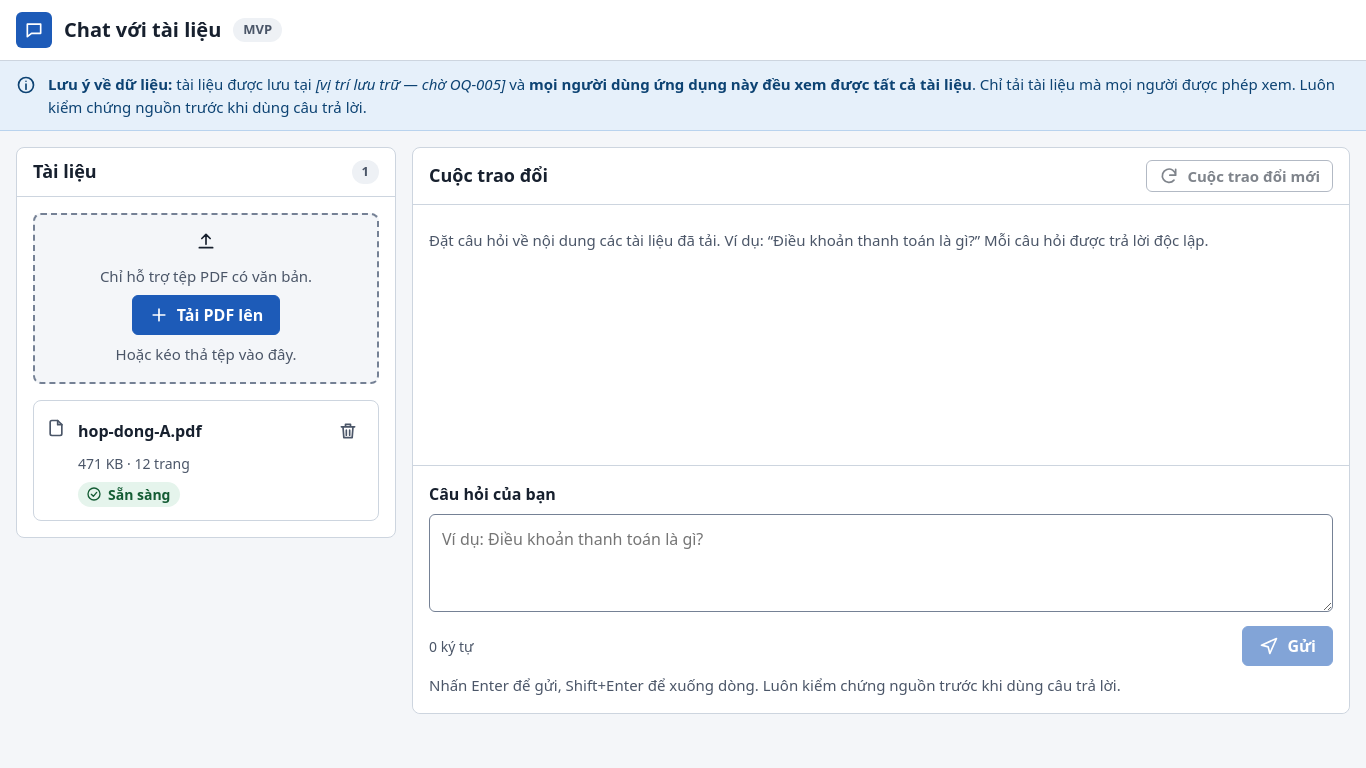
Scenario: [US-005-AC1] hộp thoại xóa: focus vào Hủy, Esc đóng, xác nhận gọi DELETE
Click the button named "Xóa tài liệu hop-dong-A.pdf" at coordinates (348, 430), box left=330, top=412, right=366, bottom=448
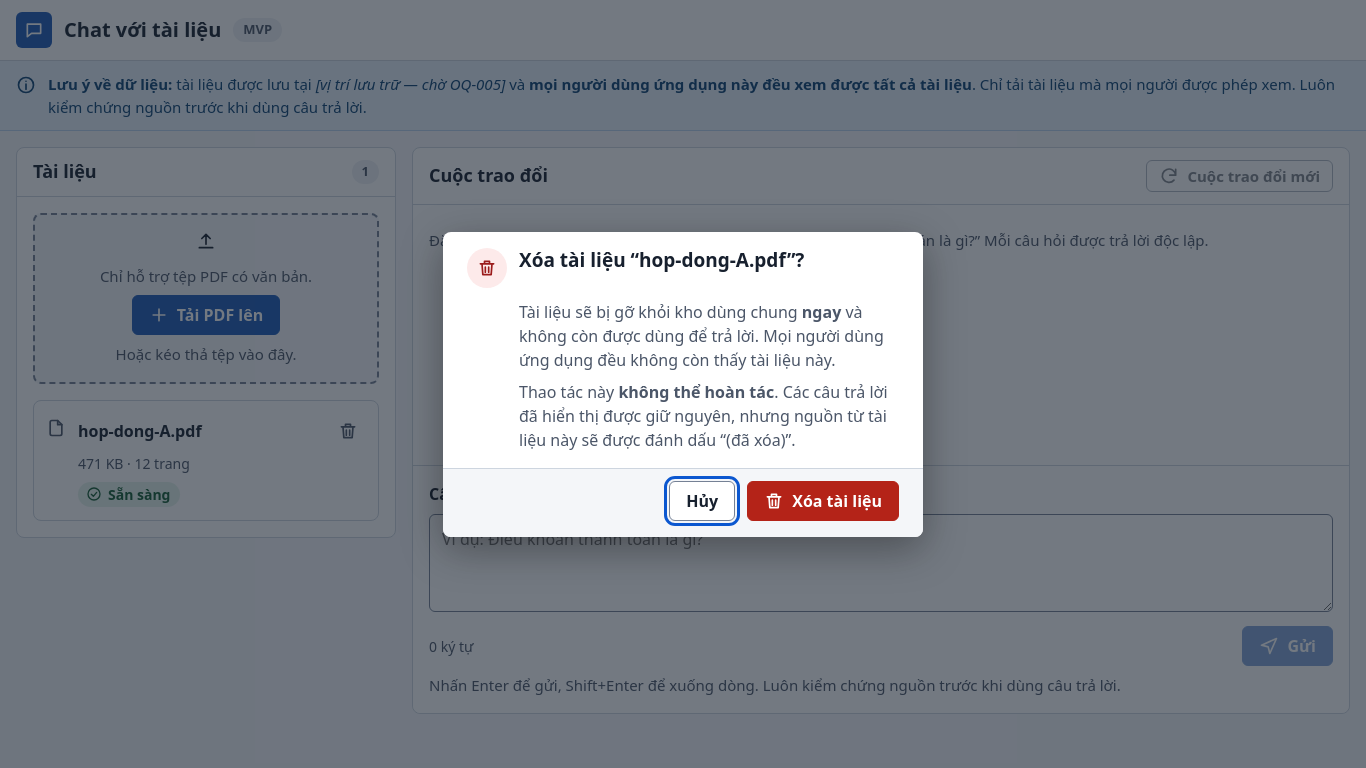
Press Escape
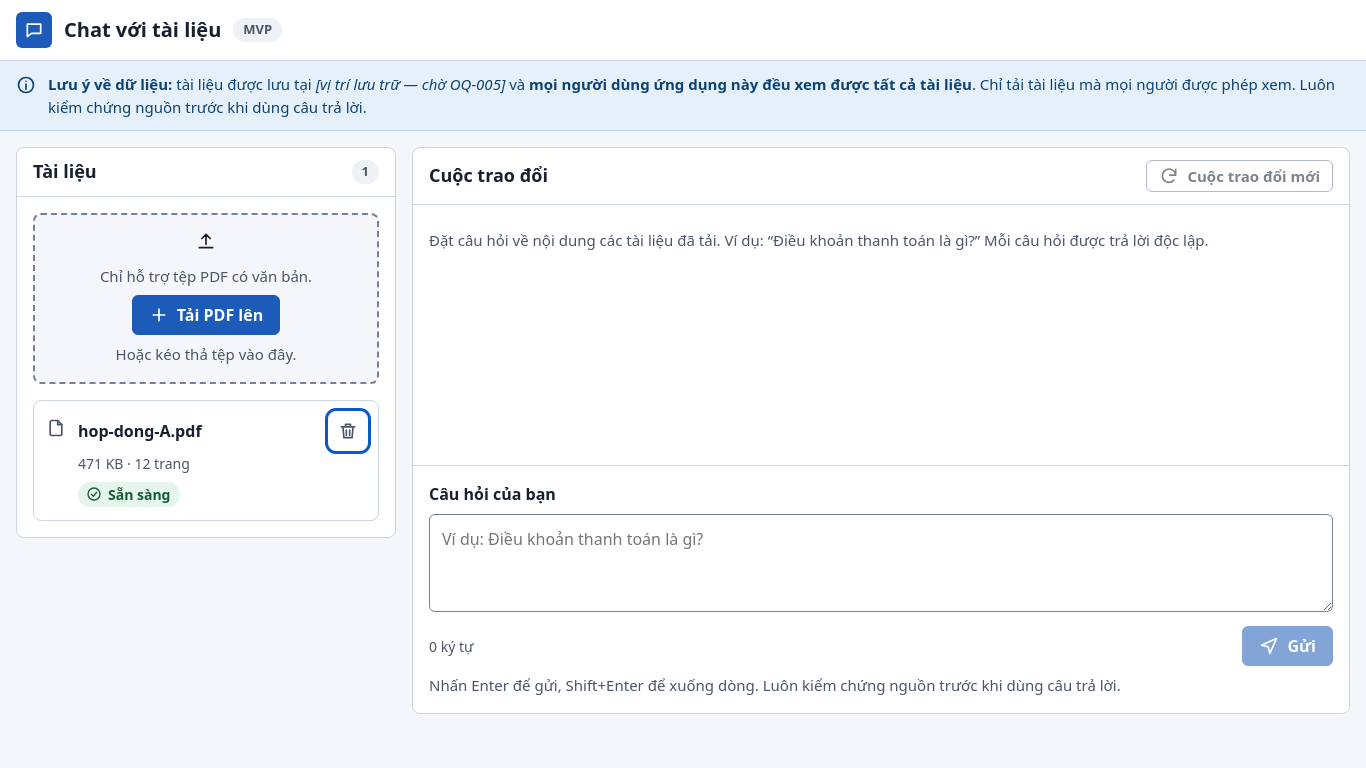
expect the dialog is gone: met
Click the button named "Xóa tài liệu hop-dong-A.pdf" at coordinates (348, 430), box left=330, top=412, right=366, bottom=448
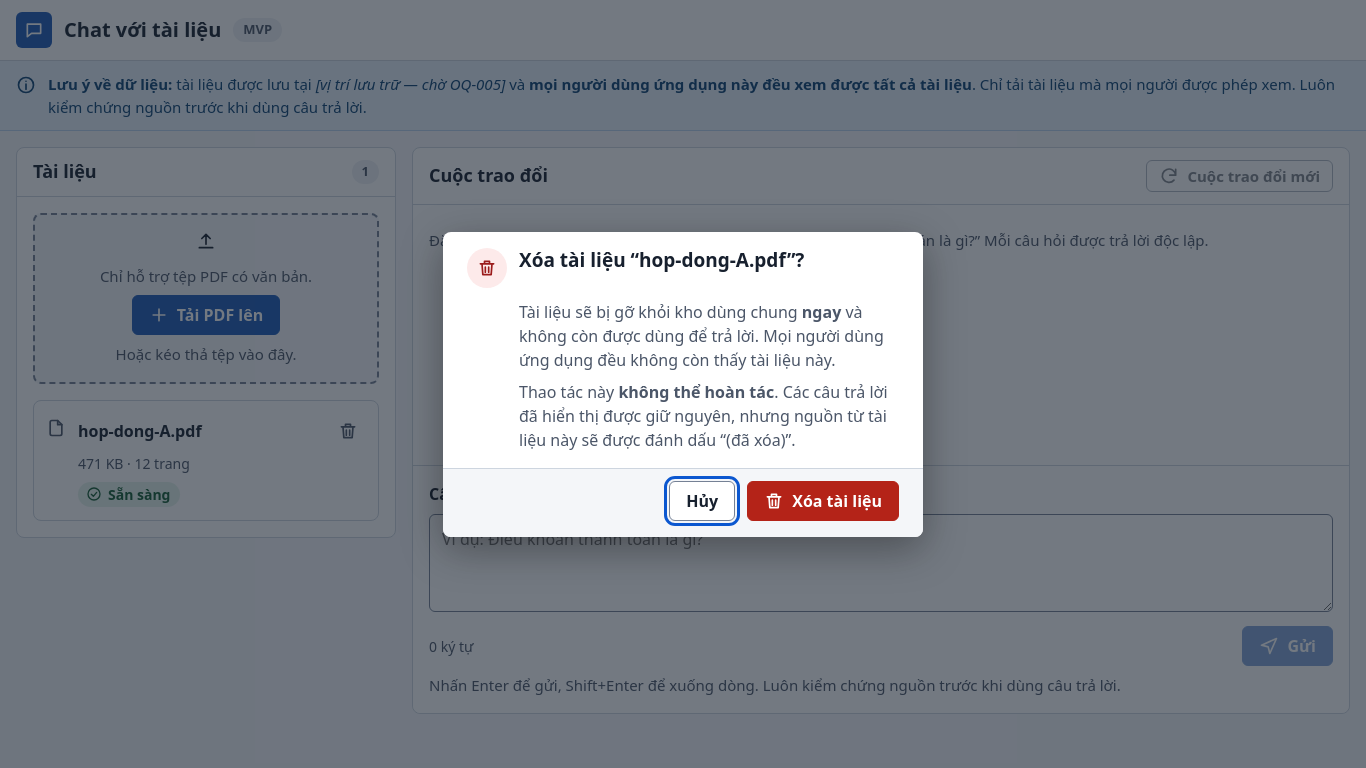
Press Tab
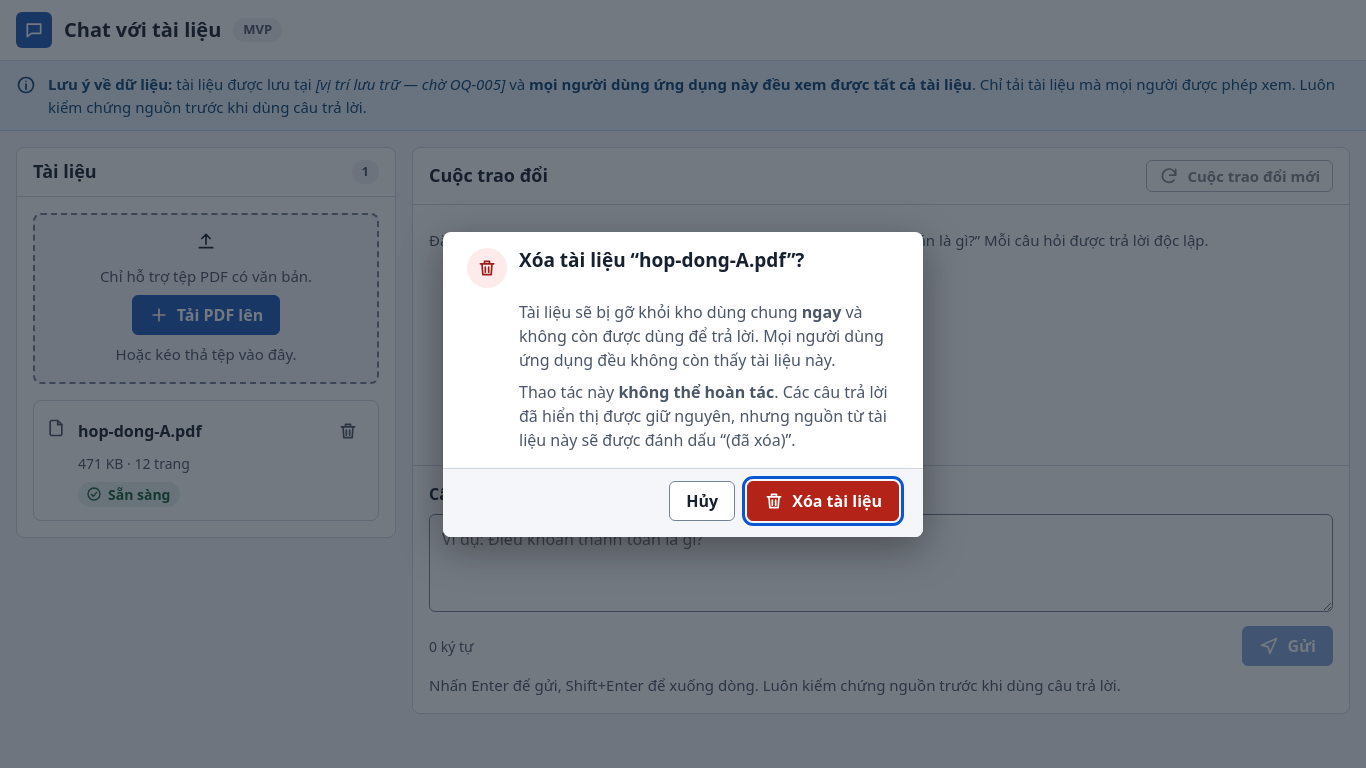
Press Tab
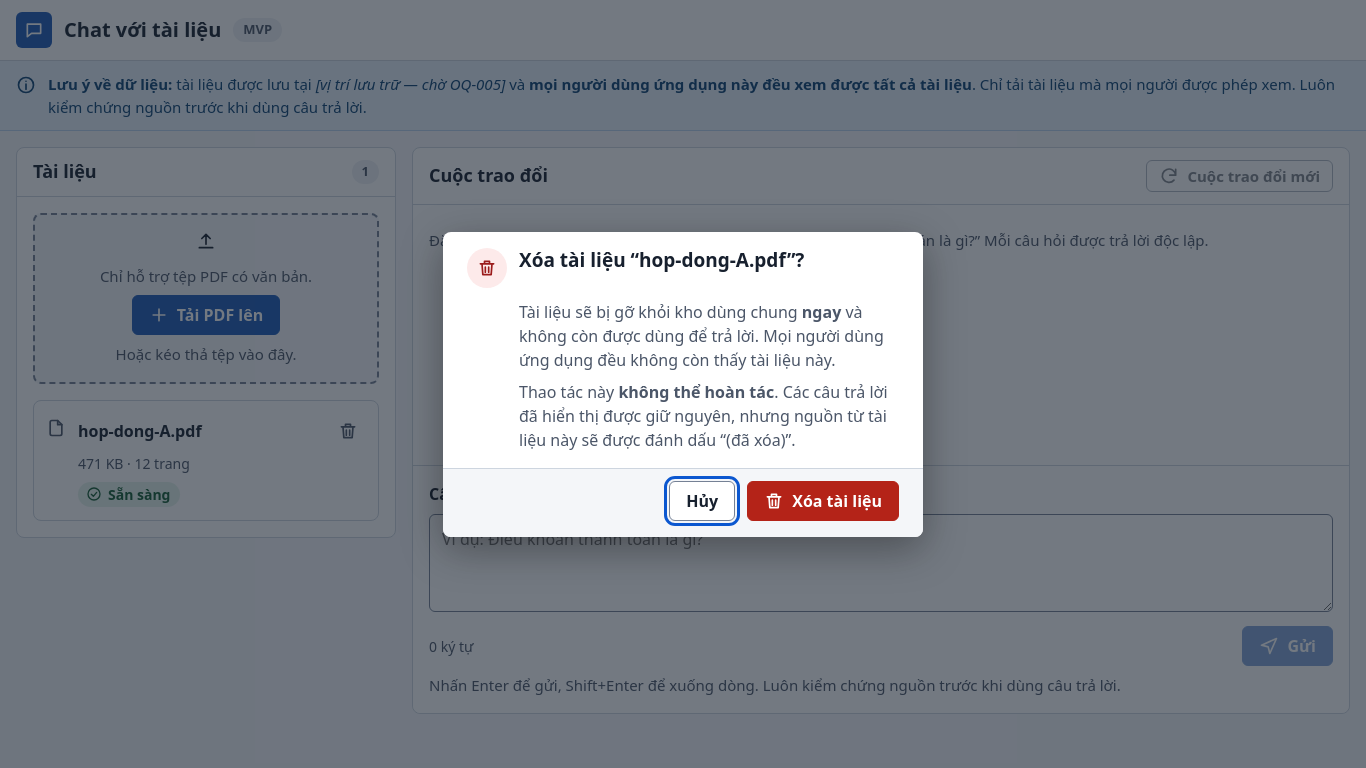
Click the button "Xóa tài liệu" at coordinates (823, 500), box left=747, top=480, right=899, bottom=520
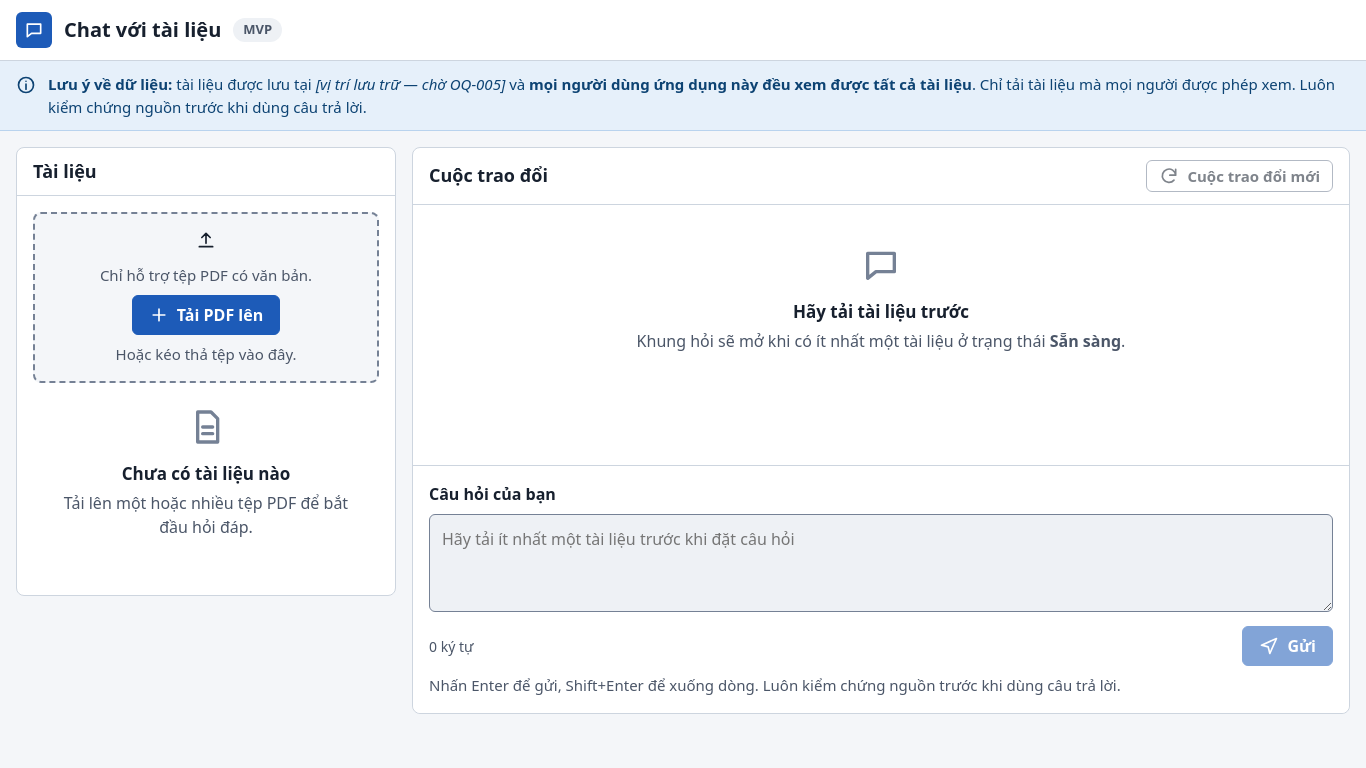
expect the dialog is gone: met
expect the heading "Chưa có tài liệu nào" is shown: met, box left=122, top=462, right=290, bottom=485
